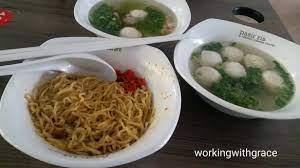Braised Crucian Carp: (0, 45, 180, 167), (173, 18, 300, 120), (74, 0, 191, 41)
